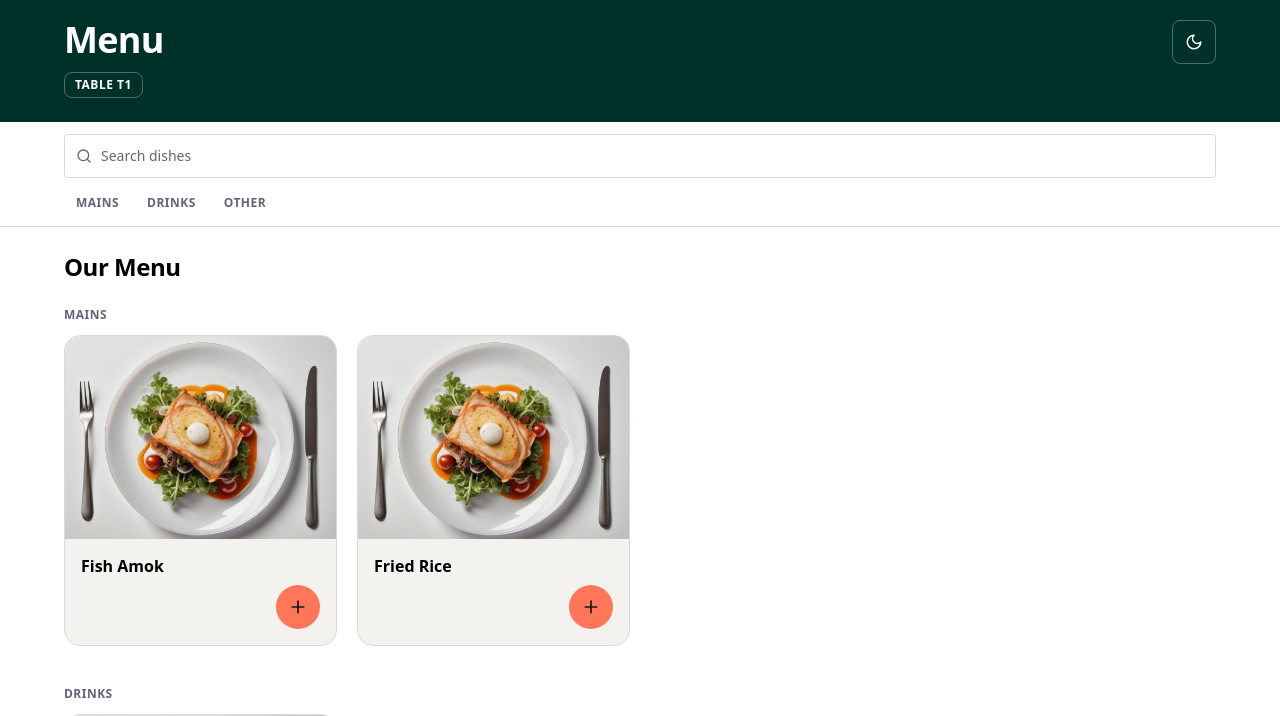
Test: customer menu categories › the search box filters dishes by name, and says when nothing matches
This screenshot has width=1280, height=716.
Type "COFF" into the search field labelled "Search dishes".
click(640, 156); type("COFF")  # box x1=64 y1=134 x2=1216 y2=178
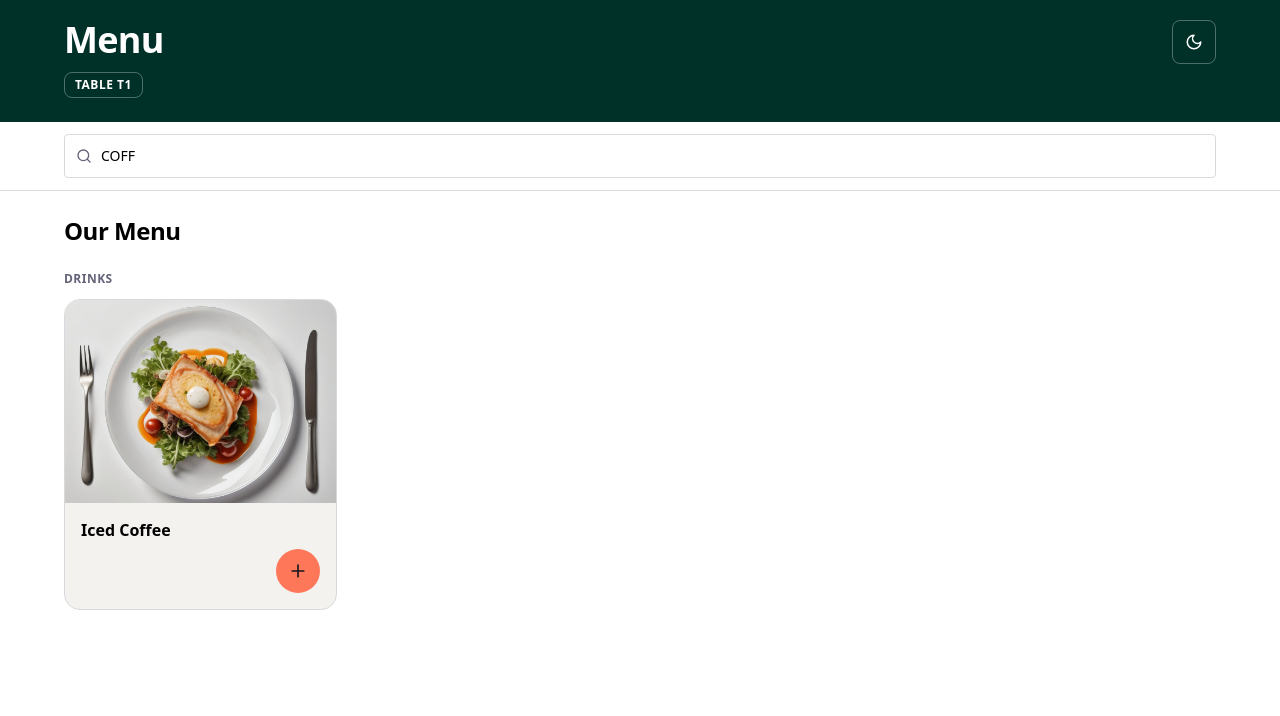
expect the heading "Iced Coffee" is shown: met, box x1=81 y1=519 x2=171 y2=541
expect the heading "Fish Amok" is gone: met
Replace the text in the search field named "Search dishes" with "pizza" at (640, 156), box x1=64 y1=134 x2=1216 y2=178
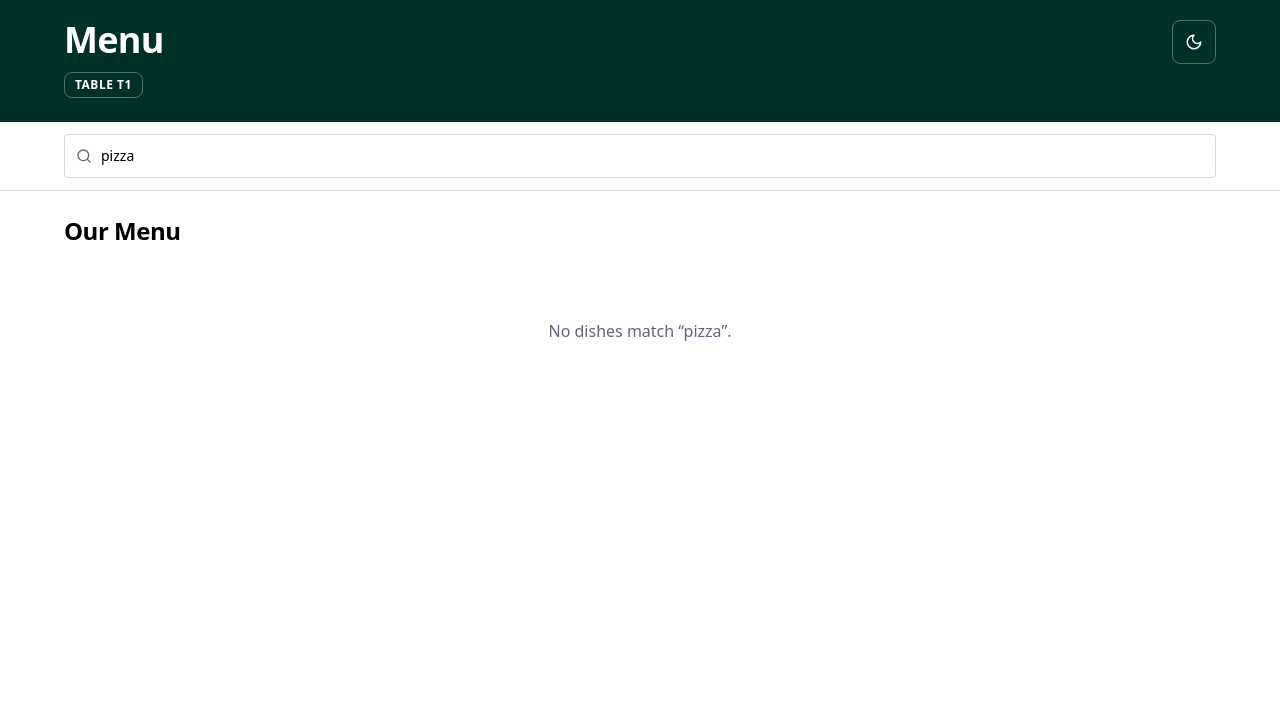
expect the text "No dishes match “pizza”." is shown: met, box x1=548 y1=320 x2=732 y2=342
